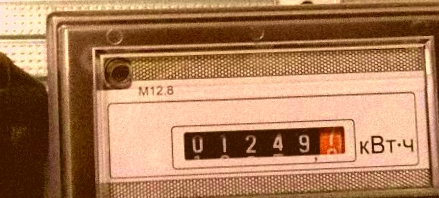0: (189, 132, 204, 153)
1: (216, 131, 229, 153)
2: (241, 131, 258, 154)
4: (270, 130, 284, 151)
7: (324, 125, 338, 146)
9: (296, 131, 310, 153)
screen: (167, 113, 359, 171)
